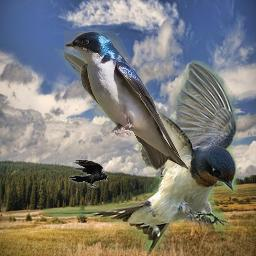Crow: (68, 159, 108, 188)
Swallow: (43, 47, 238, 254), (64, 31, 191, 172)
